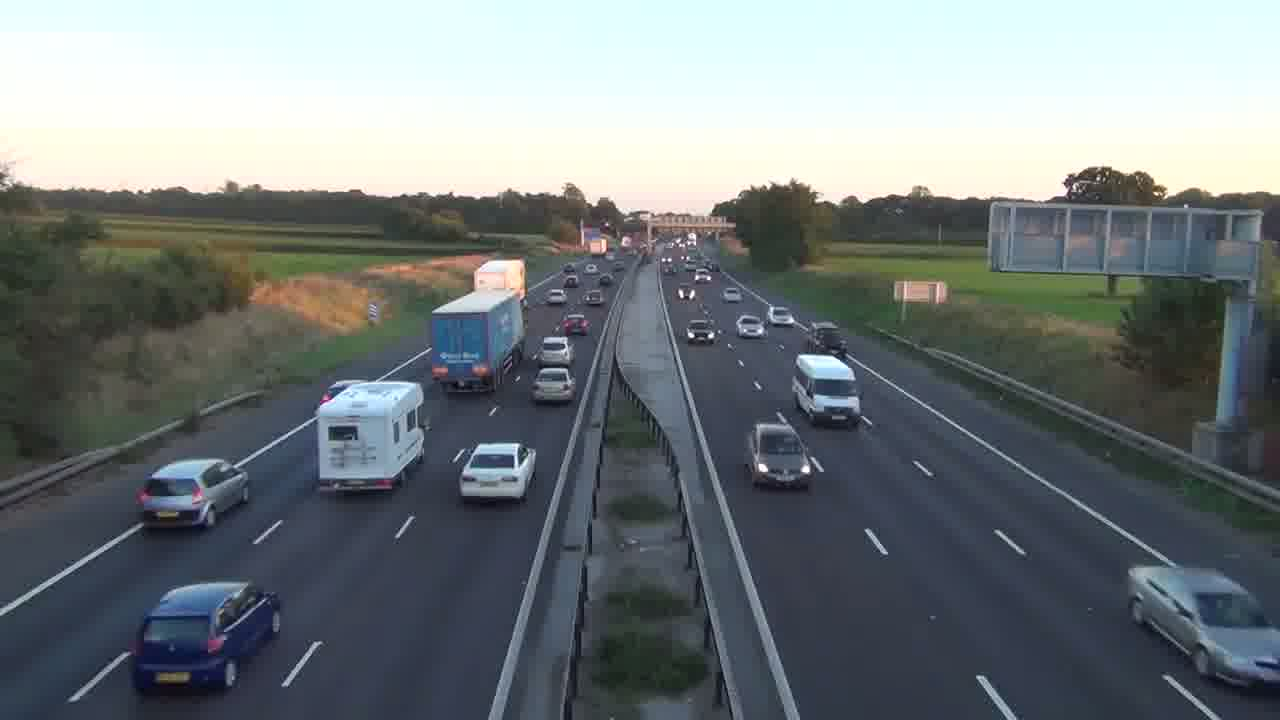bus: (315, 378, 426, 493)
car: (129, 578, 283, 695), (135, 458, 251, 530), (746, 417, 824, 490), (457, 441, 537, 504), (531, 365, 576, 404), (538, 335, 573, 369), (736, 313, 768, 339), (686, 318, 717, 344), (560, 313, 591, 337), (767, 306, 794, 327)
truck: (1127, 562, 1280, 690), (431, 289, 525, 394), (791, 352, 864, 428), (792, 352, 863, 427)
